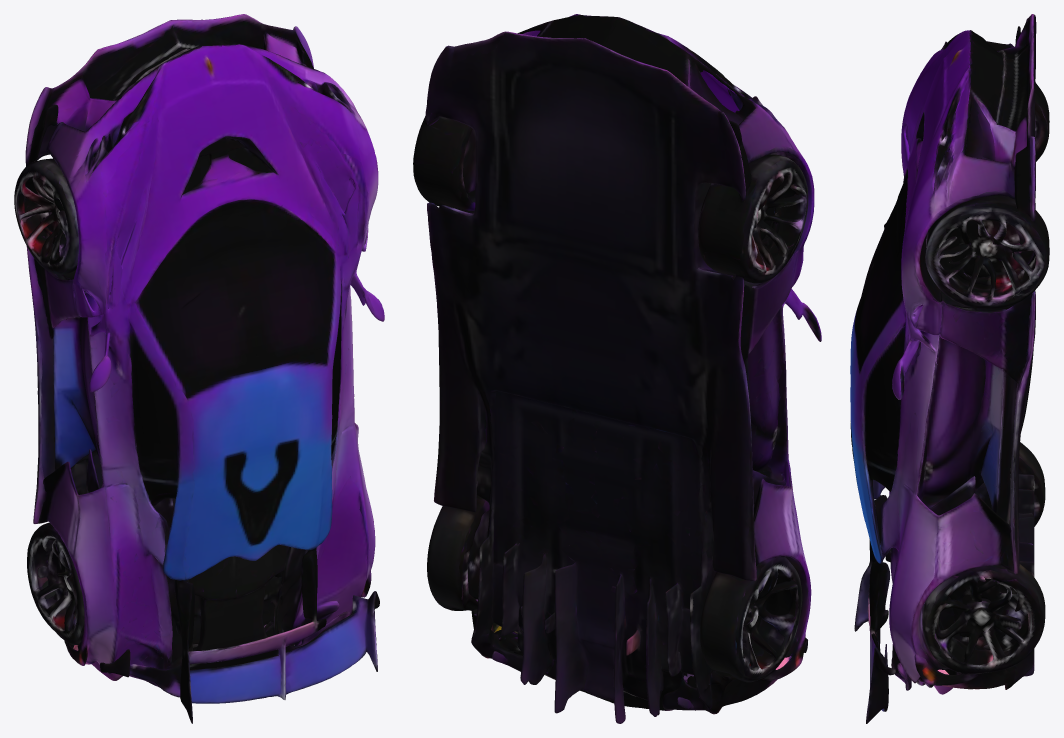
Rendered from sleek.glb.
The picture shows the model from 3 angles, left to right: view 1: azimuth 30°, elevation 25°; view 2: azimuth 150°, elevation 25°; view 3: azimuth 270°, elevation 25°; orthographic projection. The views are drawn at different scales.
Parts seen in each view (by area): view 1: body; view 2: body; view 3: body.
Boxes of the visible parts, x1=… form: body: x1=14, y1=14, x2=384, y2=723; body: x1=413, y1=14, x2=821, y2=723; body: x1=850, y1=14, x2=1049, y2=723.
Size of the model in its own units: 0.6044 by 1.18 by 0.3366.
1 material, 1 textured.
